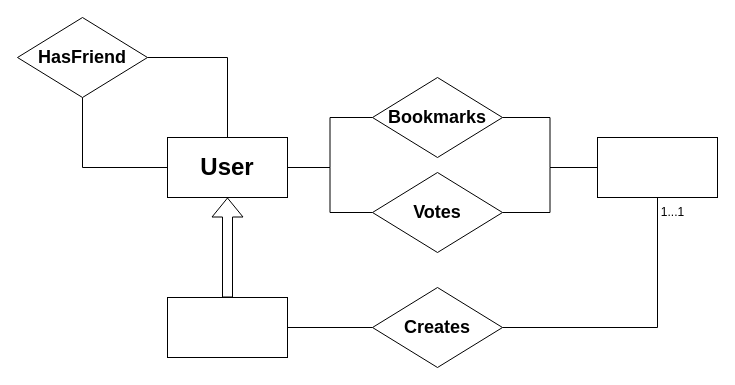
Image size: 735x385. Some labels were removed from this diagram. Here are the shapes that lost their labels. From the top down, the centre of each, then its label:
At (657,167): "Ballot".
At (227,327): "Admin".
